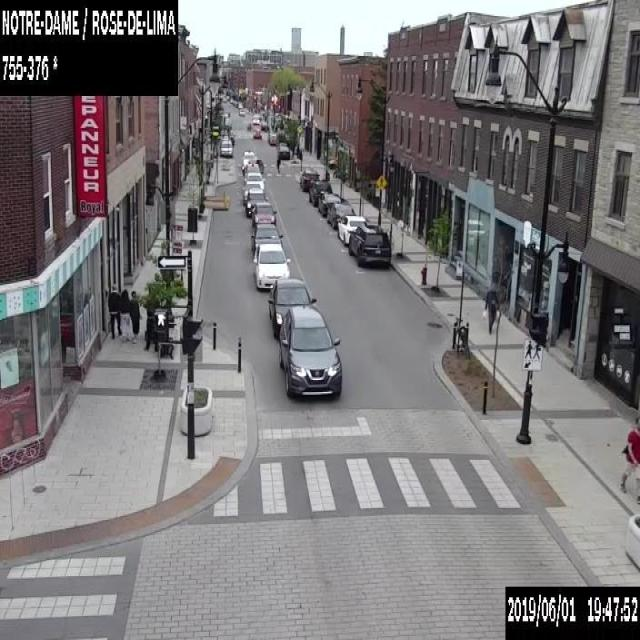pedestrian: (619, 416, 639, 502), (482, 281, 499, 333), (128, 289, 141, 343), (118, 287, 130, 341), (108, 286, 119, 339), (276, 156, 280, 173)
vehicle: (279, 306, 341, 400), (267, 276, 316, 340), (347, 224, 391, 265), (252, 243, 290, 288), (250, 223, 283, 250), (336, 215, 366, 243), (326, 202, 356, 229), (244, 188, 267, 218), (250, 201, 276, 226), (308, 180, 332, 206), (318, 192, 340, 216), (242, 180, 262, 203), (299, 170, 319, 192), (243, 172, 264, 192), (243, 161, 260, 180), (241, 149, 256, 167), (219, 140, 232, 156), (222, 130, 235, 144), (275, 146, 290, 158), (327, 157, 337, 168), (253, 128, 261, 138), (222, 134, 230, 142), (269, 134, 276, 143), (252, 116, 258, 123), (238, 108, 244, 115), (260, 122, 266, 128), (278, 142, 286, 146)
